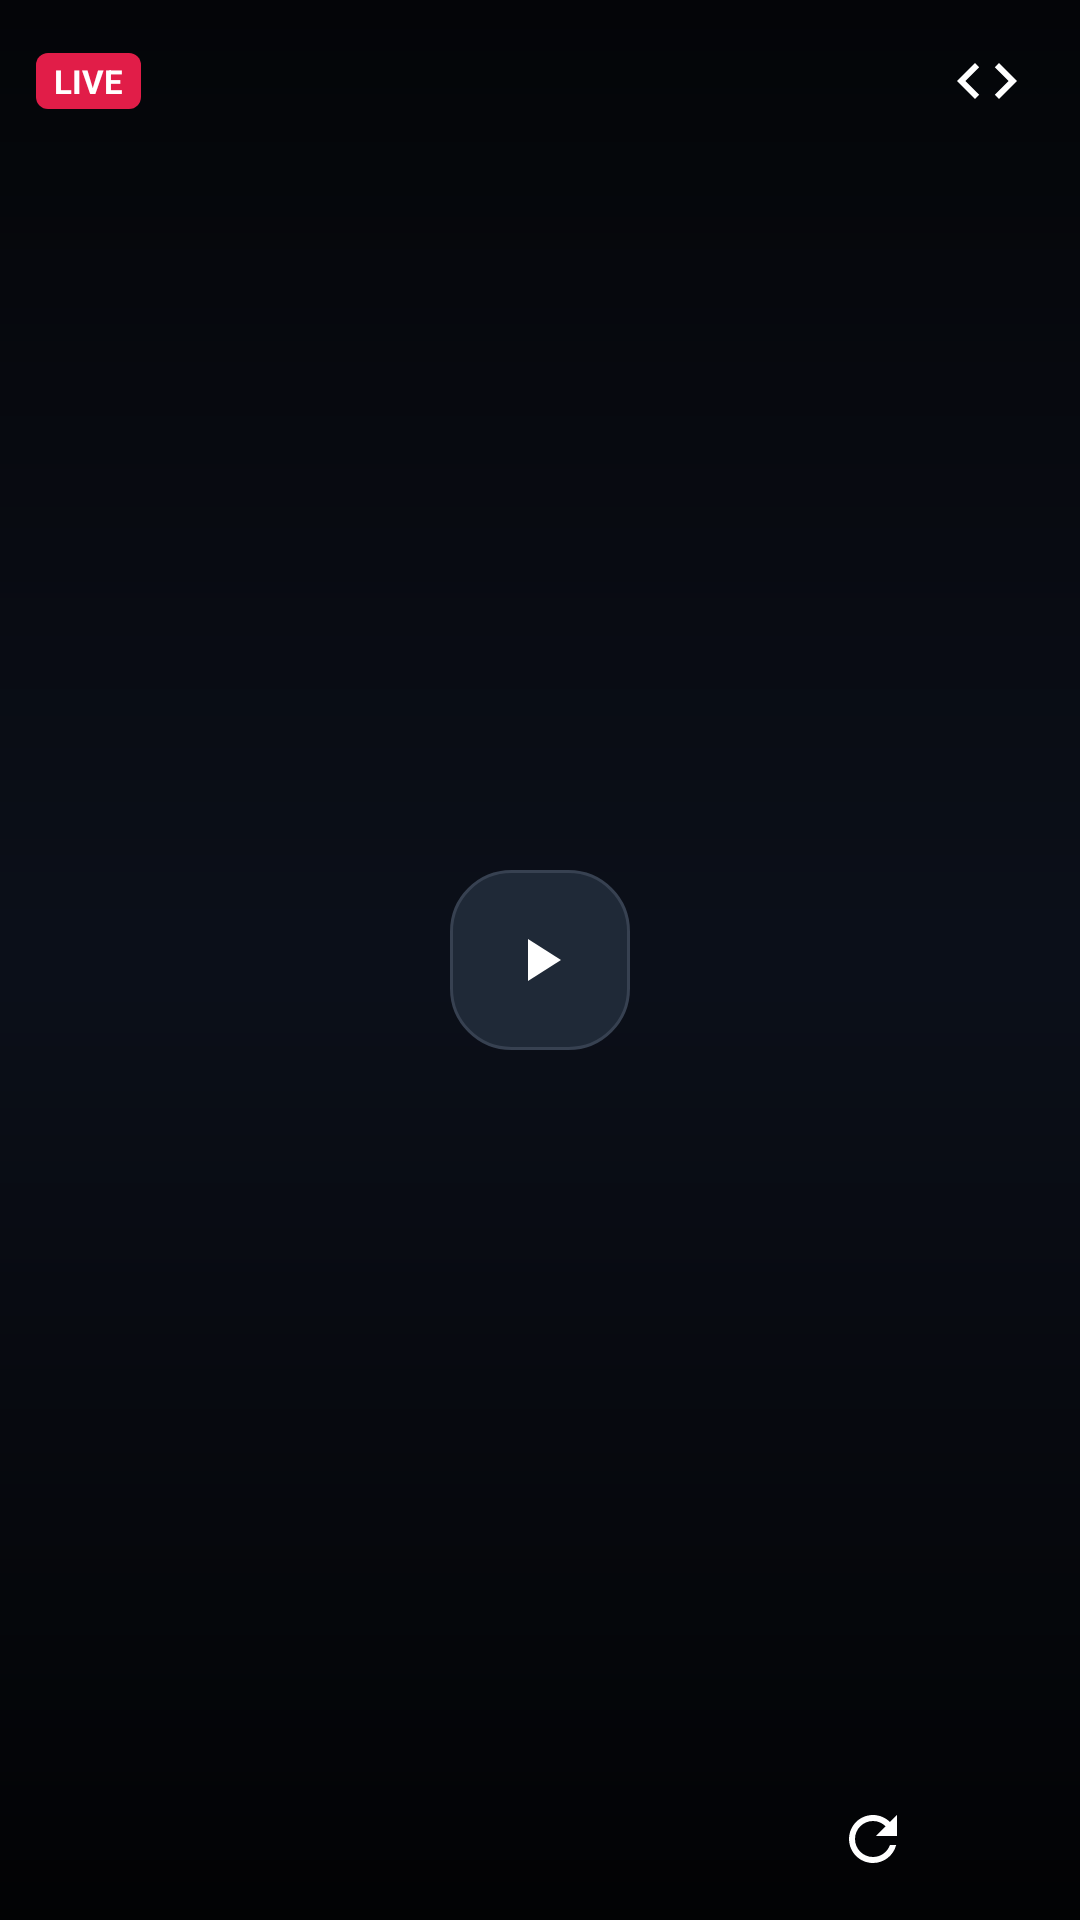

Named icons in this screenshot (1080*1920) and their centers, (x,y):
Play/Pause: (540,960)
Reload Stream: (873,1839)
